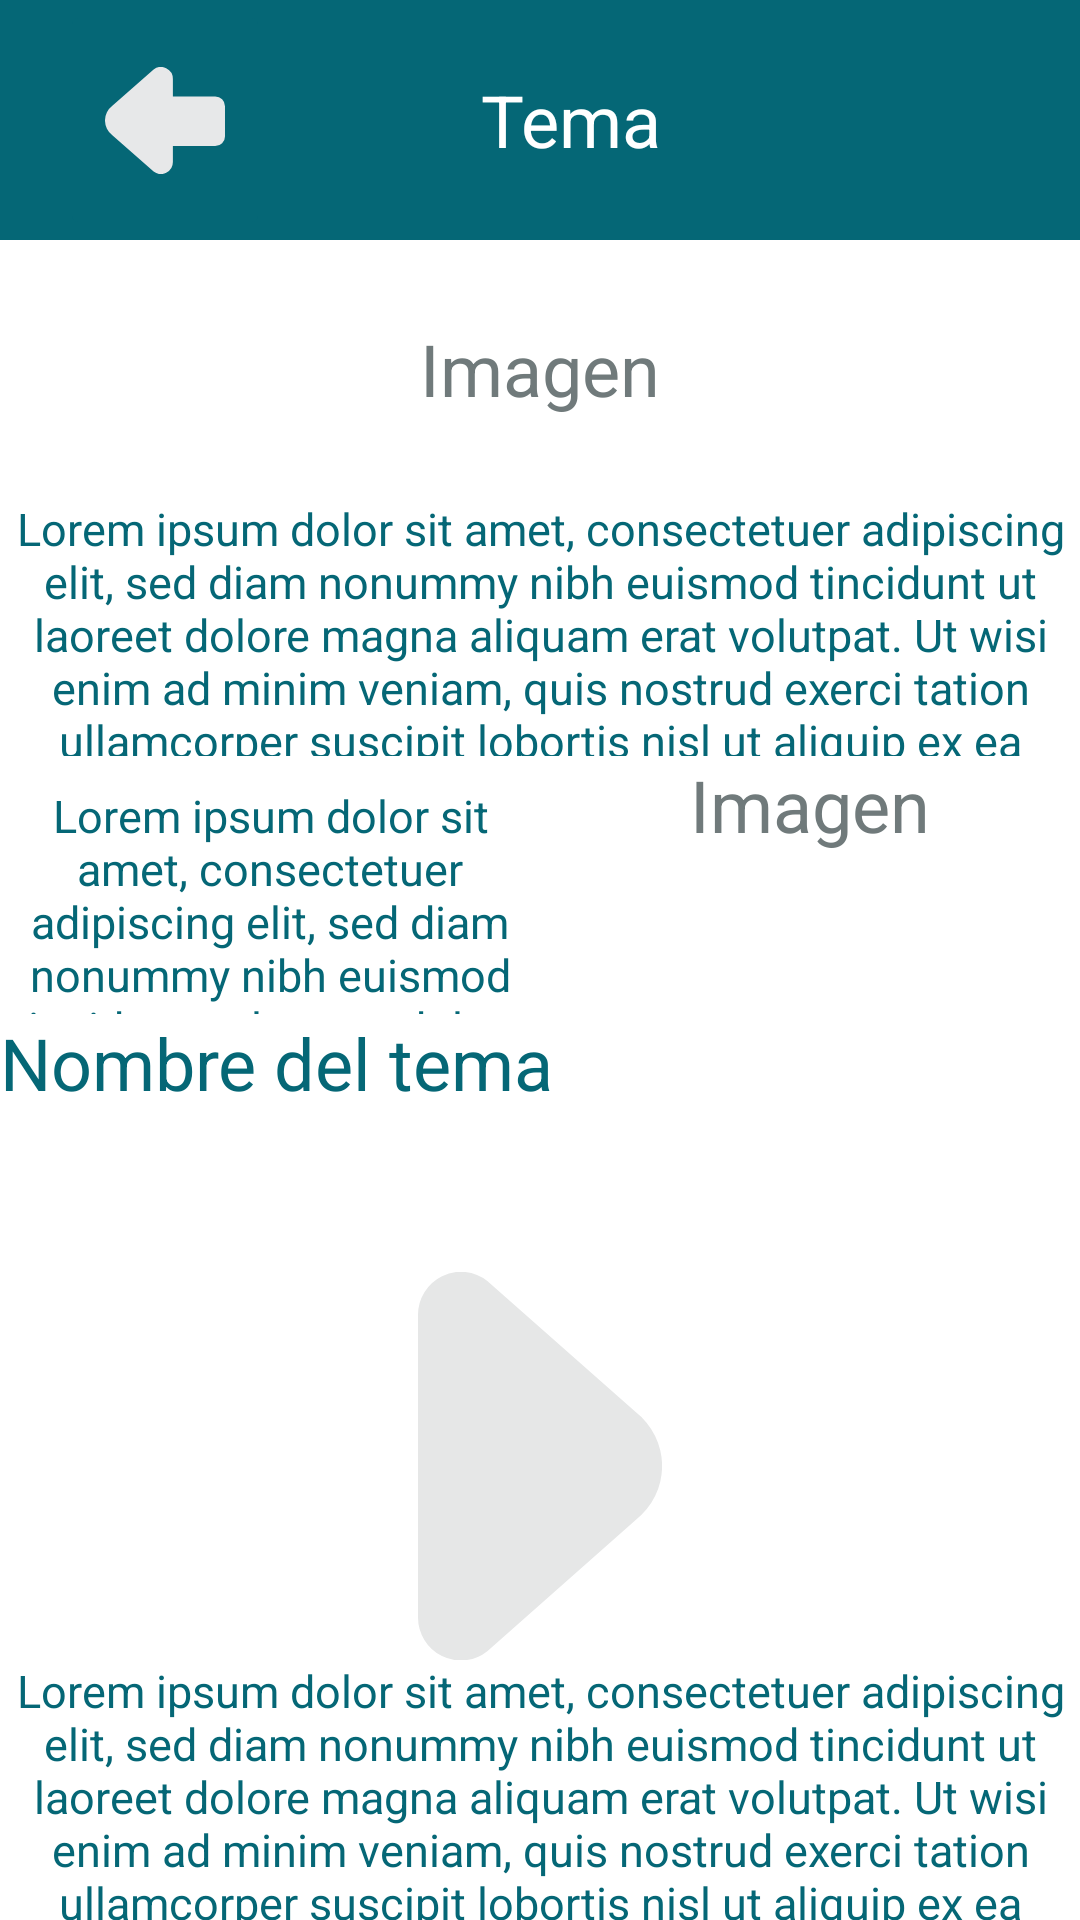

Named icons in this screenshot (1080px×1920px) and their bounding boxes, (x1, y1, x2, y2):
flechaatras: (105, 67, 225, 174)
